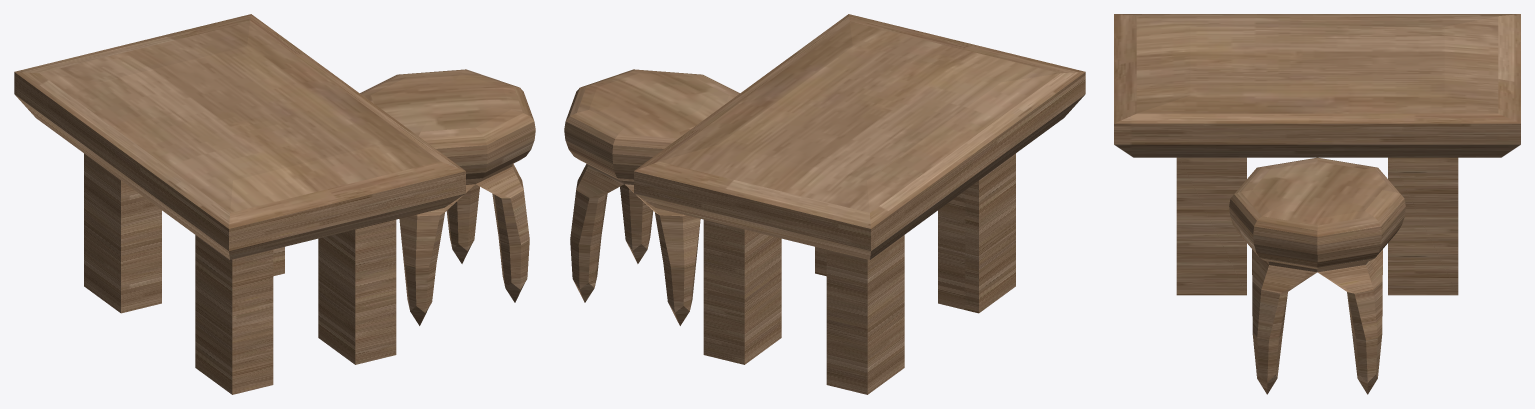
File: DeskAndChair.fbx
3 renders of one model, left to right at view 1: azimuth 30°, elevation 25°; view 2: azimuth 150°, elevation 25°; view 3: azimuth 270°, elevation 25°, orthographic. The views are drawn at different scales.
Parts seen in each view (by area): view 1: Desk, Chair; view 2: Desk, Chair; view 3: Desk, Chair.
Boxes of the visible parts, box(x1,y1,x2,y2) form: Desk: box(14, 14, 465, 394); Chair: box(360, 69, 535, 325); Desk: box(634, 14, 1085, 394); Chair: box(564, 69, 739, 325); Desk: box(1114, 14, 1520, 295); Chair: box(1229, 157, 1405, 394).
Bounding box in the file's own units: 506 × 277 × 467.
